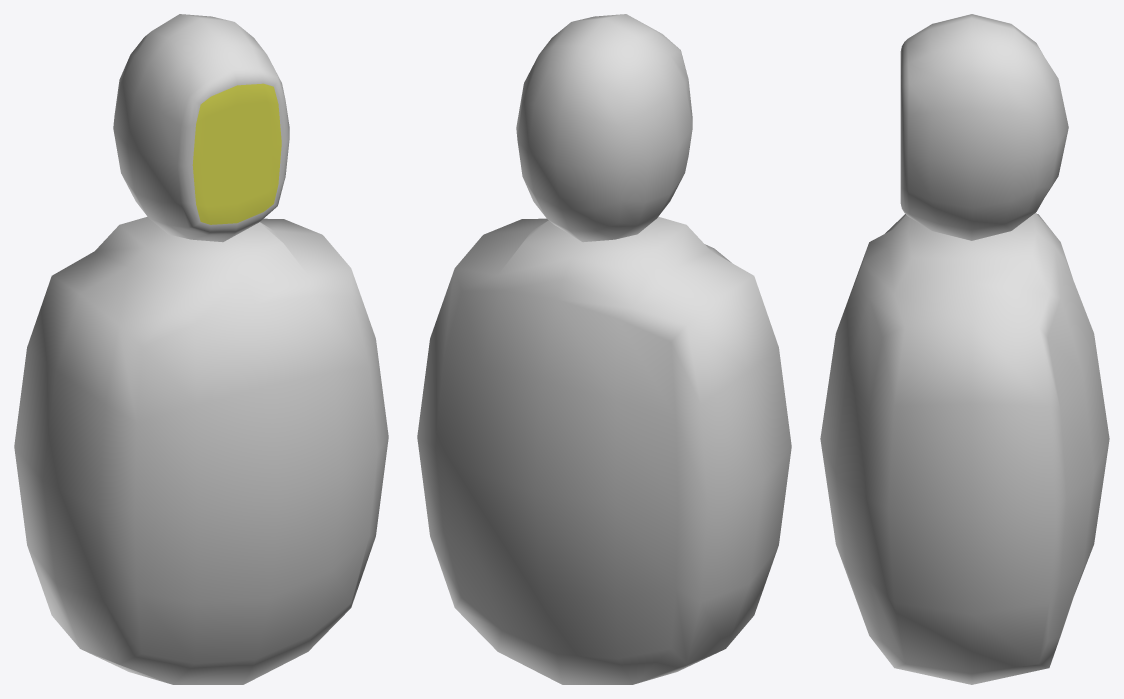
Rendered from Roboter.fbx.
3 renders of one model, left to right at view 1: azimuth 30°, elevation 25°; view 2: azimuth 150°, elevation 25°; view 3: azimuth 270°, elevation 25°, orthographic.
Visible parts, largest first — view 1: RoboterBody, head; view 2: RoboterBody, head; view 3: RoboterBody, head.
Part boxes in pixels (left/top/right/bottom): RoboterBody: left=14, top=216, right=388, bottom=684; head: left=113, top=14, right=289, bottom=242; RoboterBody: left=417, top=216, right=791, bottom=684; head: left=516, top=14, right=692, bottom=242; RoboterBody: left=820, top=213, right=1109, bottom=684; head: left=900, top=14, right=1068, bottom=240.
Size of the model in its own units: 72.61 by 140 by 57.69.
